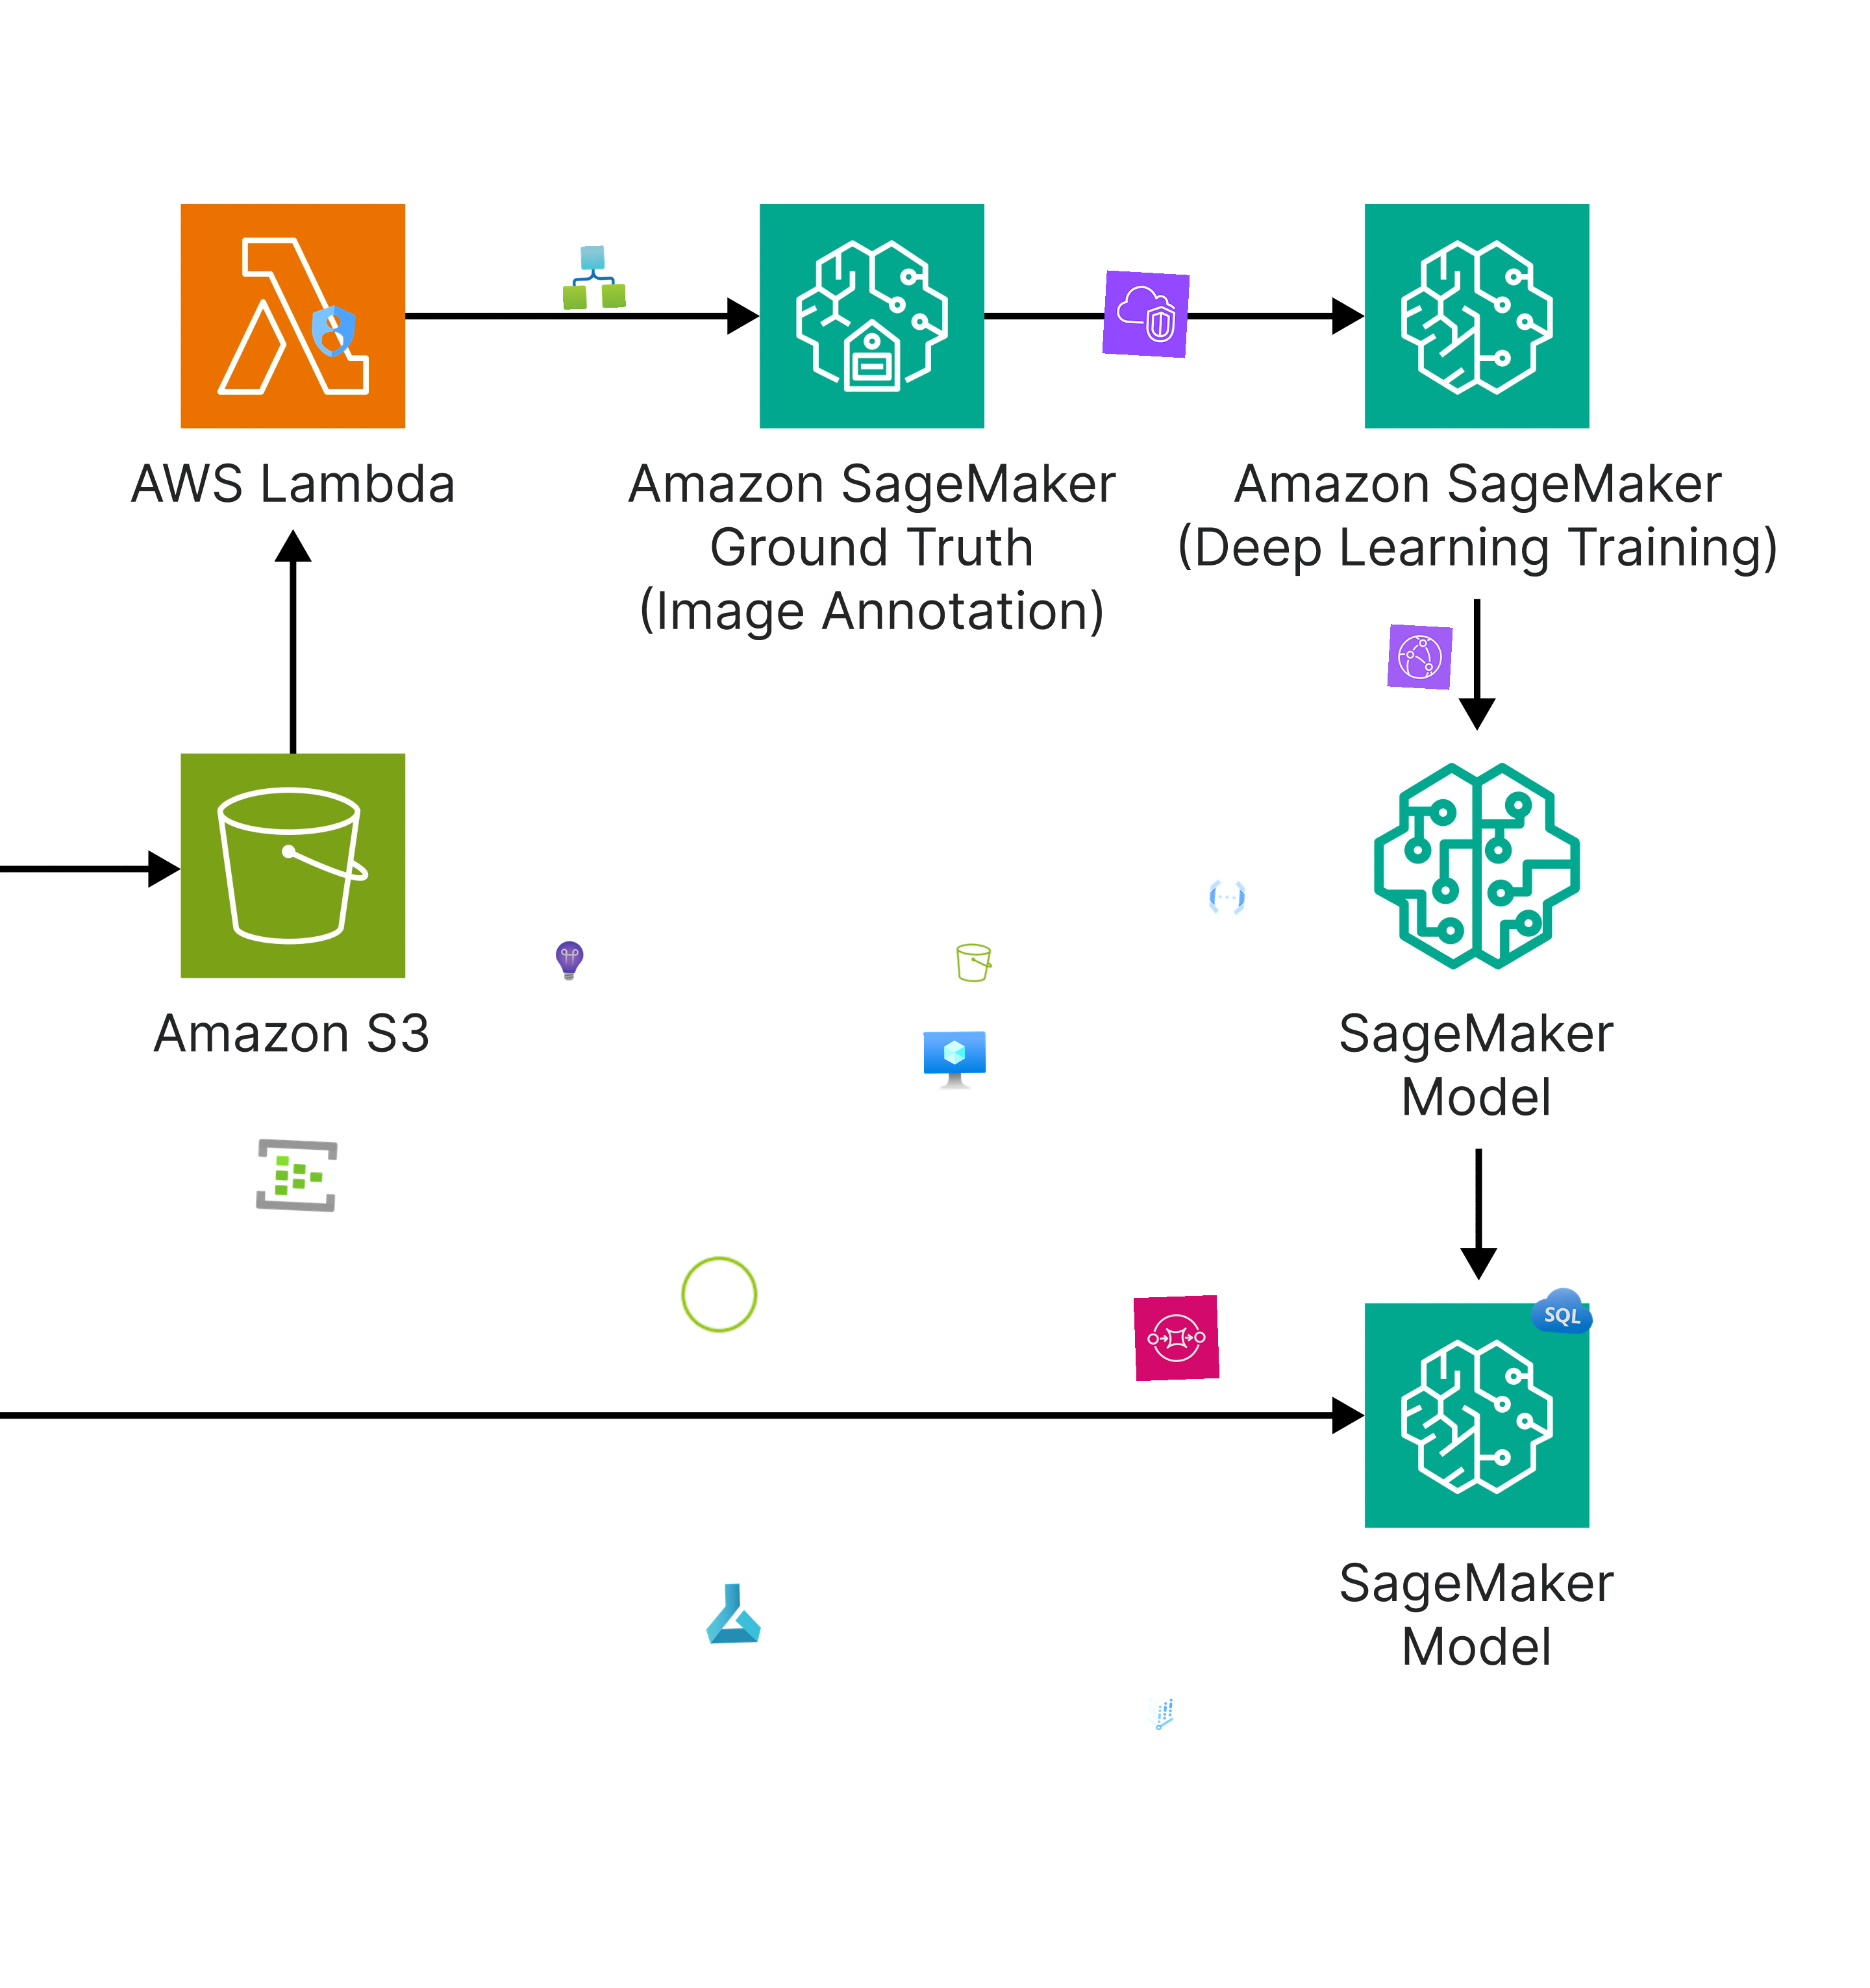aws_amazon_cloudfront: (1387, 624, 1453, 691)
aws_amazon_simple_queue_service: (1134, 1295, 1220, 1382)
aws_amazon_virtual_private_cloud: (1102, 271, 1190, 359)
aws_simple_storage_service_bucket: (953, 940, 997, 984)
aws_simple_storage_service_object: (675, 1250, 763, 1339)
azure_application_insights: (548, 939, 591, 983)
azure_event_hubs: (253, 1132, 341, 1218)
azure_logic_apps: (561, 244, 626, 309)
azure_machine_learning: (701, 1580, 766, 1645)
azure_sql: (1529, 1278, 1596, 1345)
azure_virtual_machine: (923, 1030, 988, 1093)
gcp_cloud_functions: (1204, 875, 1250, 919)
gcp_identity_and_access_management: (301, 299, 366, 364)
gcp_vertex_ai: (1137, 1691, 1183, 1737)
